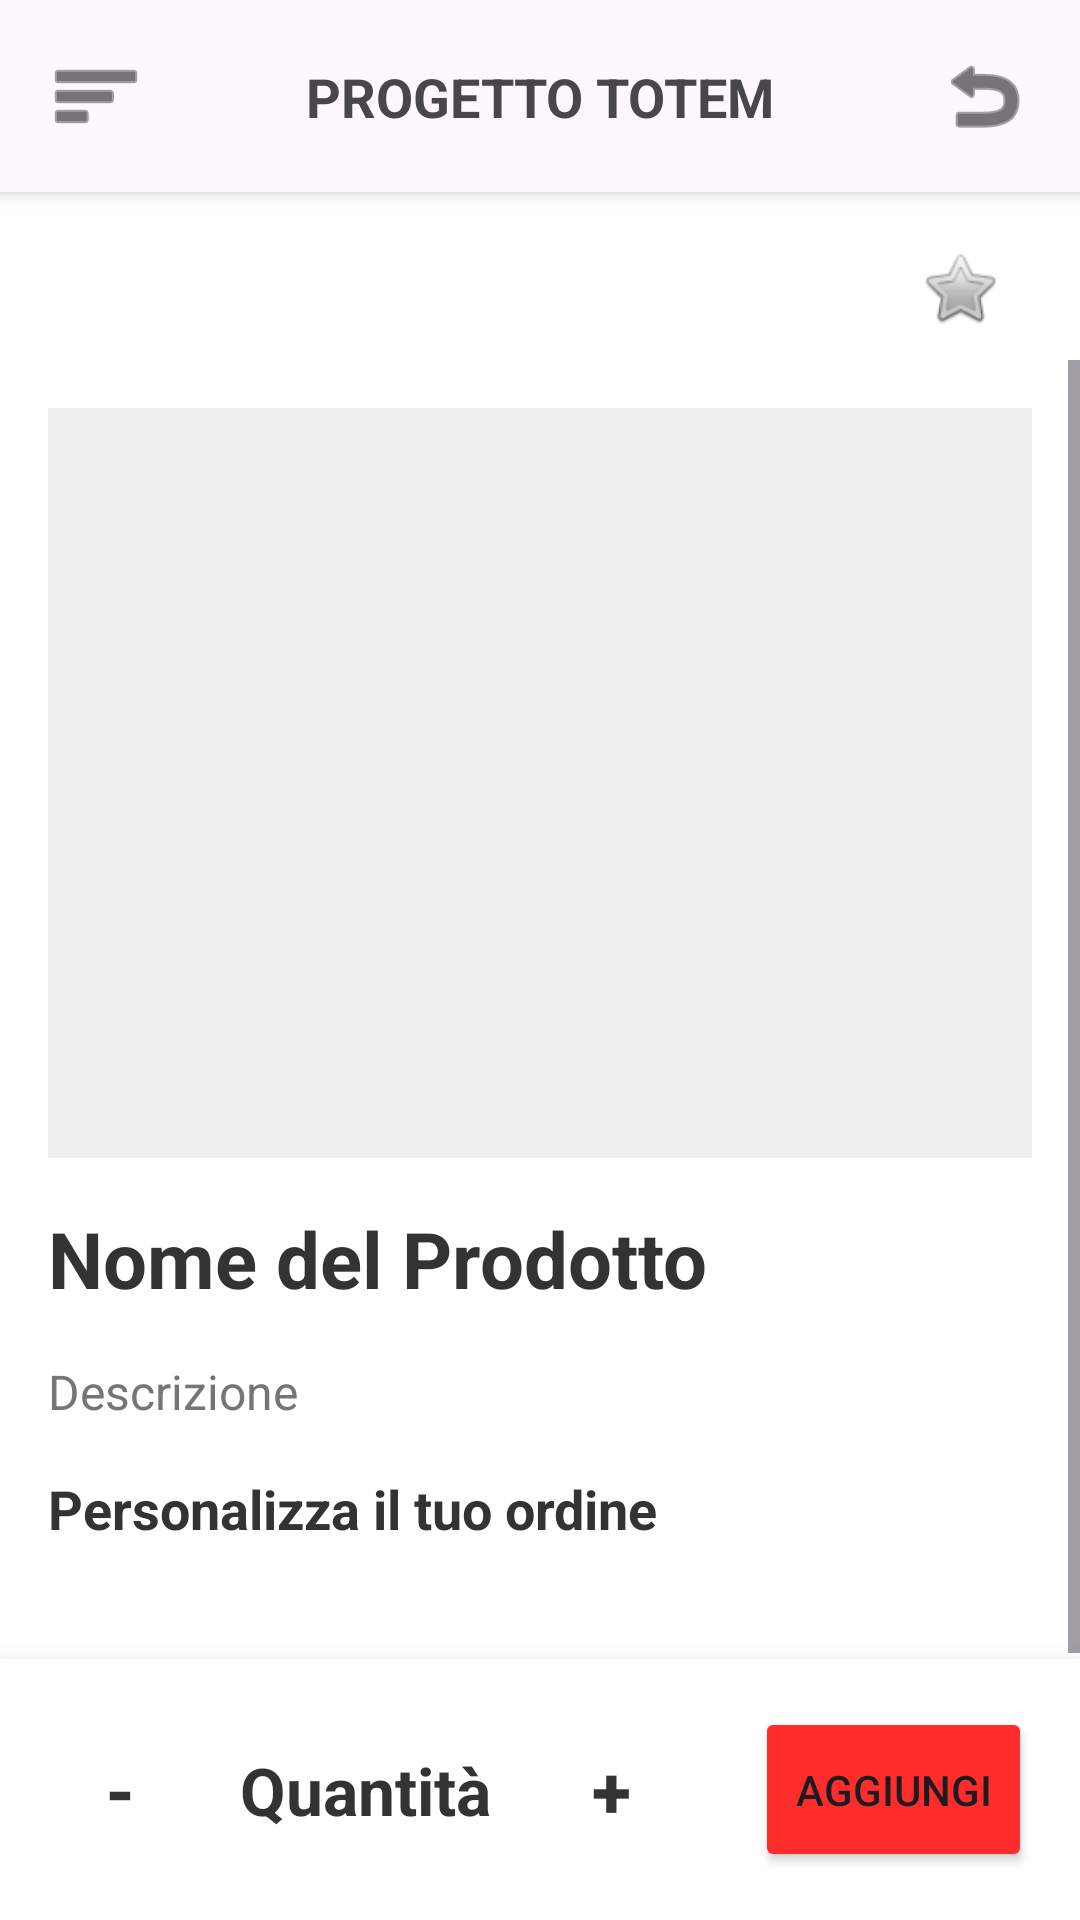

Point at icon controls on the screen. Image size 1080w x 1920h, points as [x,y].
Indietro: [985,96]
Menu: [96,96]
Preferiti: [961,288]
